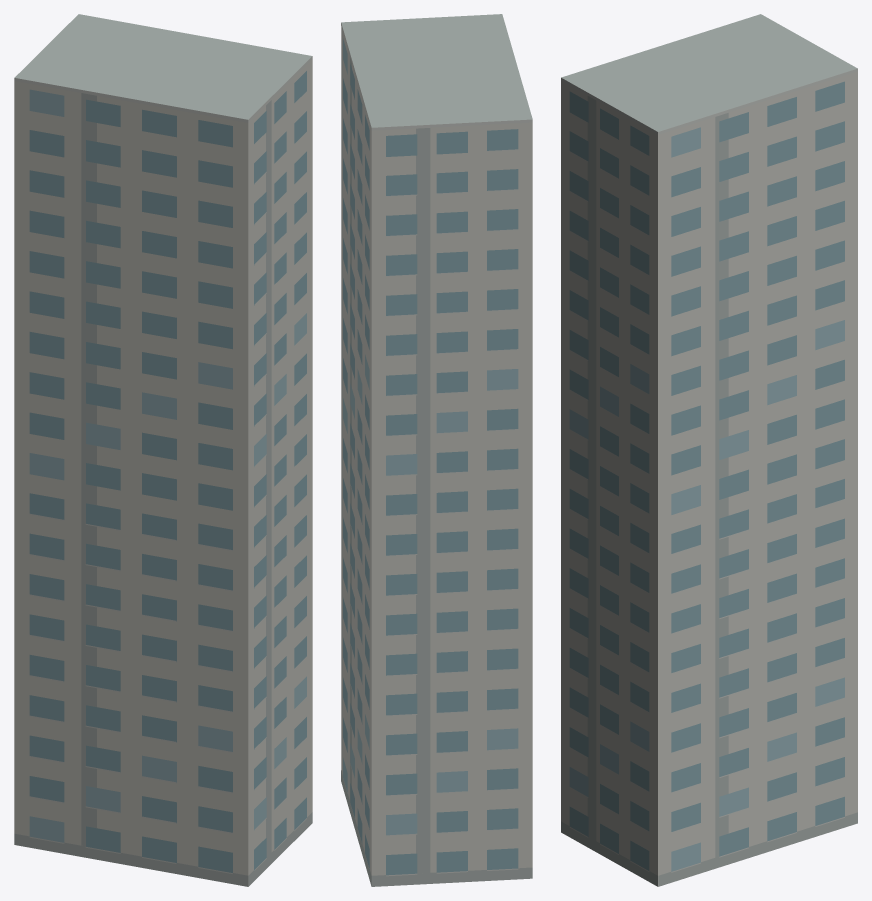
Rendered from residential-6b002320-641c-4826-b6b4-855bc090cce6.glb.
3 views of the same model, side by side, from view 1: azimuth 30°, elevation 25°; view 2: azimuth 150°, elevation 25°; view 3: azimuth 270°, elevation 25° (orthographic).
Visible parts, largest first — view 1: residential-6b002320-641c-4826-b6b4-855bc090cce6.tmp; view 2: residential-6b002320-641c-4826-b6b4-855bc090cce6.tmp; view 3: residential-6b002320-641c-4826-b6b4-855bc090cce6.tmp.
Boxes of the visible parts, left/top/right/bottom form: residential-6b002320-641c-4826-b6b4-855bc090cce6.tmp: left=14, top=14, right=312, bottom=886; residential-6b002320-641c-4826-b6b4-855bc090cce6.tmp: left=341, top=14, right=532, bottom=886; residential-6b002320-641c-4826-b6b4-855bc090cce6.tmp: left=561, top=14, right=857, bottom=886.
Bounding box in the file's own units: 20.13 × 60 × 21.39.
